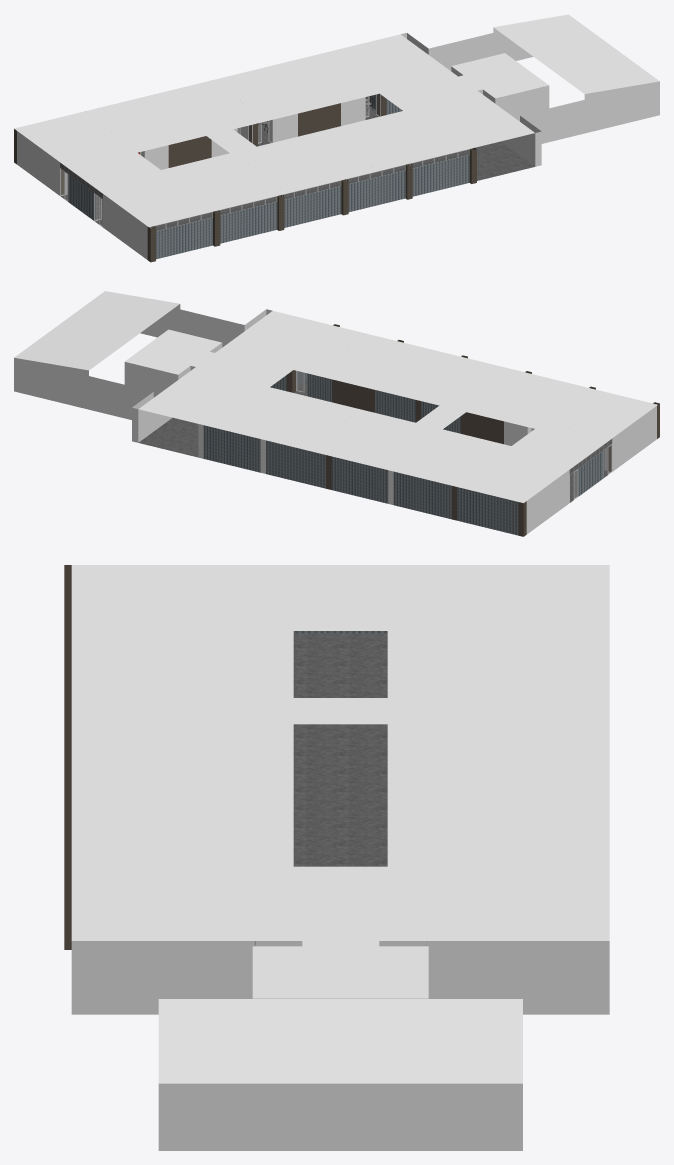
The model's file is EISCFirstFloor.glb.
The picture shows the model from 3 angles, top to bottom: view 1: azimuth 30°, elevation 25°; view 2: azimuth 150°, elevation 25°; view 3: azimuth 270°, elevation 25°; orthographic projection. The views are drawn at different scales.
Visible parts, largest first — view 1: TopFirstFloor, StructureFirstFloor, FirstFloor; view 2: TopFirstFloor, StructureFirstFloor, FirstFloor; view 3: TopFirstFloor, StructureFirstFloor, FirstFloor.
Part boxes in pixels (x1,y1,x2,y2): TopFirstFloor: (14,34,548,227); StructureFirstFloor: (14,14,659,262); FirstFloor: (61,105,534,225); TopFirstFloor: (125,311,657,502); StructureFirstFloor: (14,291,659,536); FirstFloor: (138,379,610,502); TopFirstFloor: (71,565,609,998); StructureFirstFloor: (64,565,609,1150); FirstFloor: (255,633,387,945).
Size of the model in its own units: 49.5 by 3.5 by 22.
Materials: 14 (4 with a texture image).
